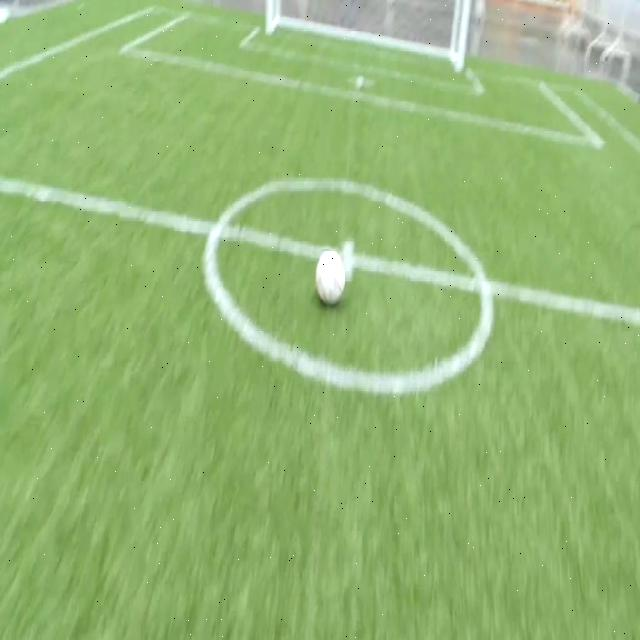ball: (316, 250, 345, 302)
goalpost: (452, 28, 466, 77), (263, 7, 276, 39)
